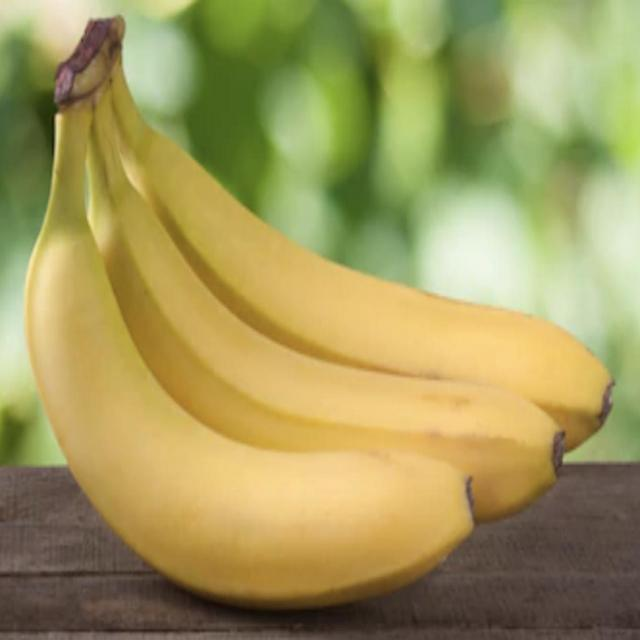banana: (2, 75, 486, 619), (90, 1, 626, 488), (122, 32, 639, 431)
